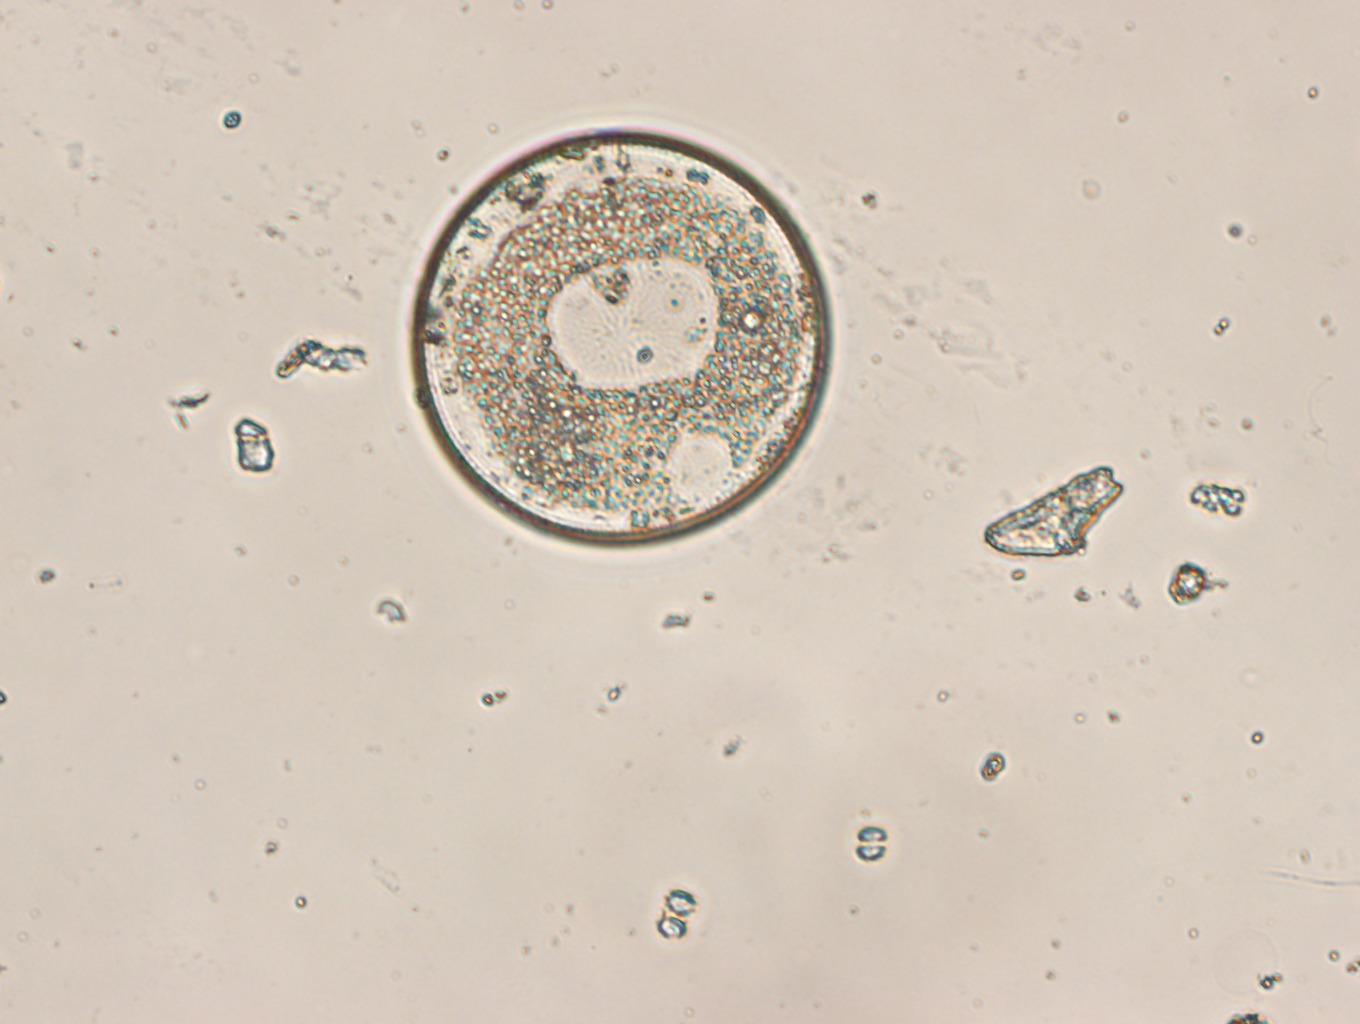coscinodiscus: (400, 122, 850, 552)
